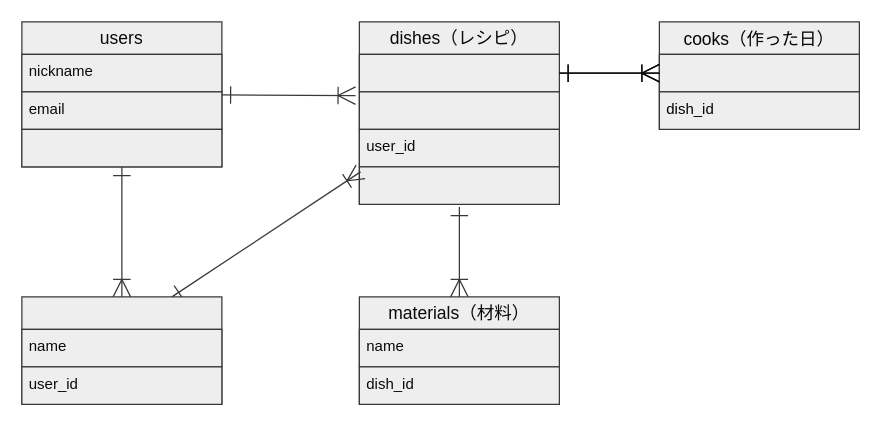
The diagram is 881 pixels wide and 430 high, and some of its shapes have lost their labels. Each missing label, with the box of its shape:
date: (658, 53, 859, 92)
dish_name: (358, 53, 559, 92)
genre_id: (358, 166, 559, 204)
genres（ジャンル）: (21, 296, 222, 404)
password: (21, 128, 222, 167)
url: (358, 91, 559, 129)
